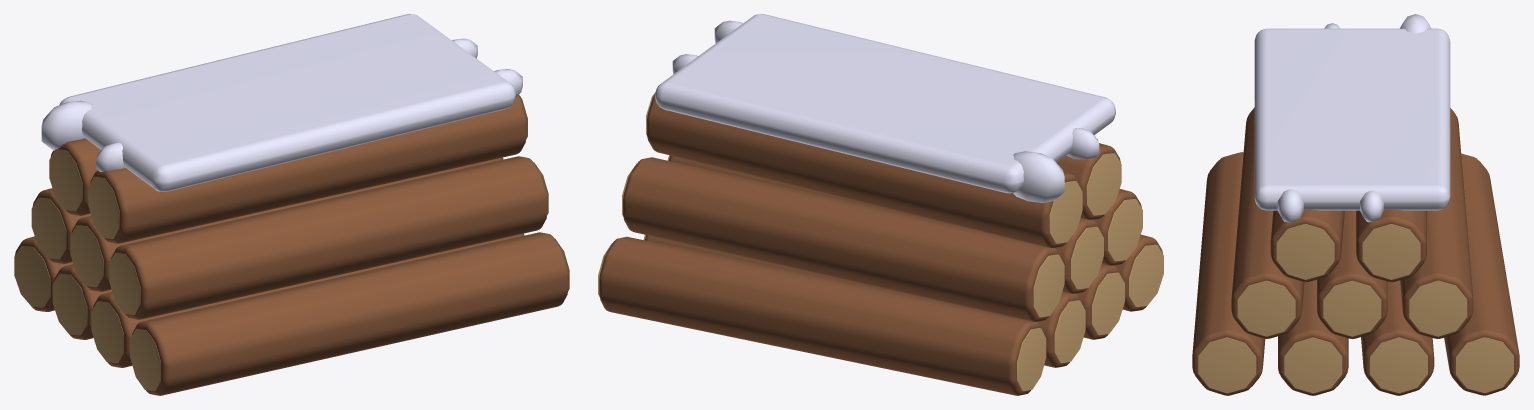
Rendered from frost_logs.glb.
The picture shows the model from 3 angles, left to right: view 1: azimuth 30°, elevation 25°; view 2: azimuth 150°, elevation 25°; view 3: azimuth 270°, elevation 25°; orthographic projection. The views are drawn at different scales.
Parts seen in each view (by area): view 1: Logs; view 2: Logs; view 3: Logs.
Part boxes in pixels (x1,y1,x2,y2): Logs: (14,14,569,395); Logs: (598,14,1163,395); Logs: (1192,14,1519,395).
Size of the model in its own units: 2.29 by 1.16 by 1.67.
